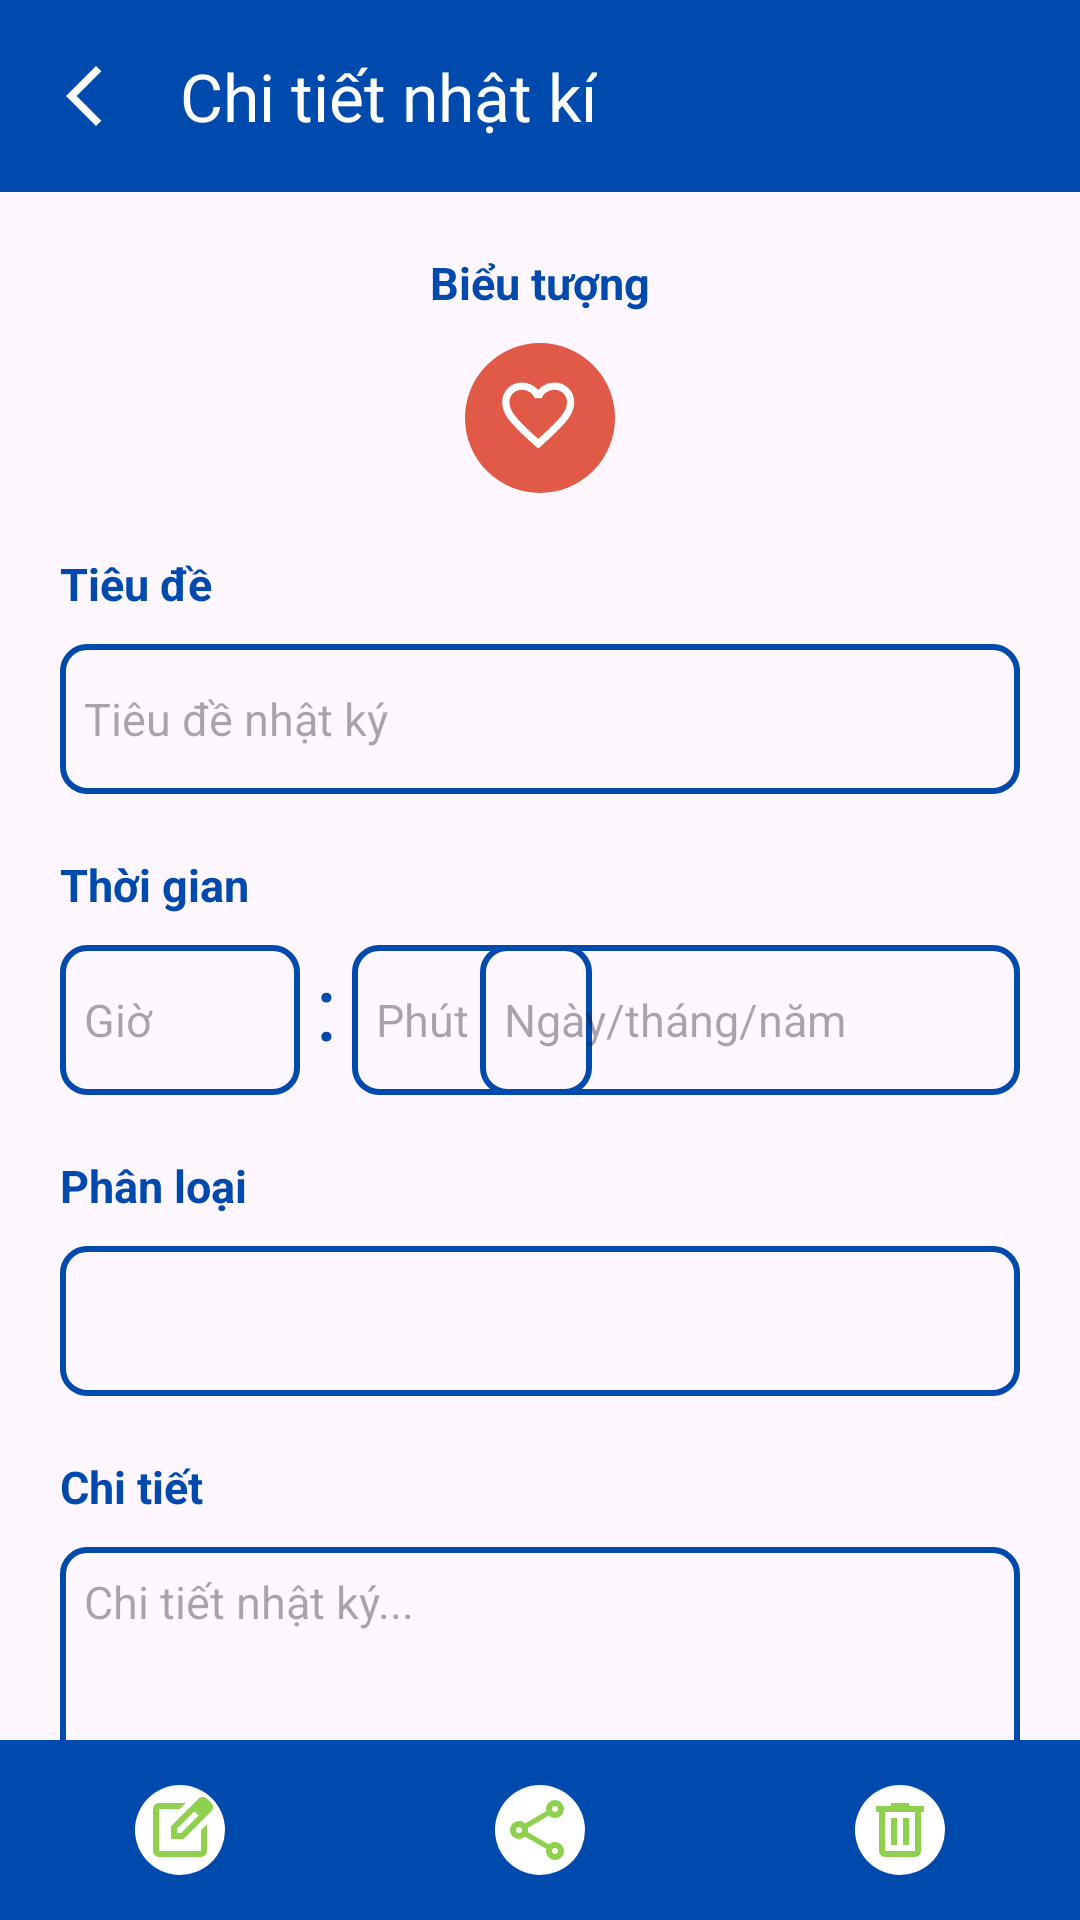

Locate icon controls on the screen. Image size 1080×1920, boxes as BBox(x1, y1, x2, y2).
delete: BBox(855, 1785, 945, 1875)
edit: BBox(135, 1785, 225, 1875)
favorite: BBox(465, 343, 615, 493)
share: BBox(495, 1785, 585, 1875)
